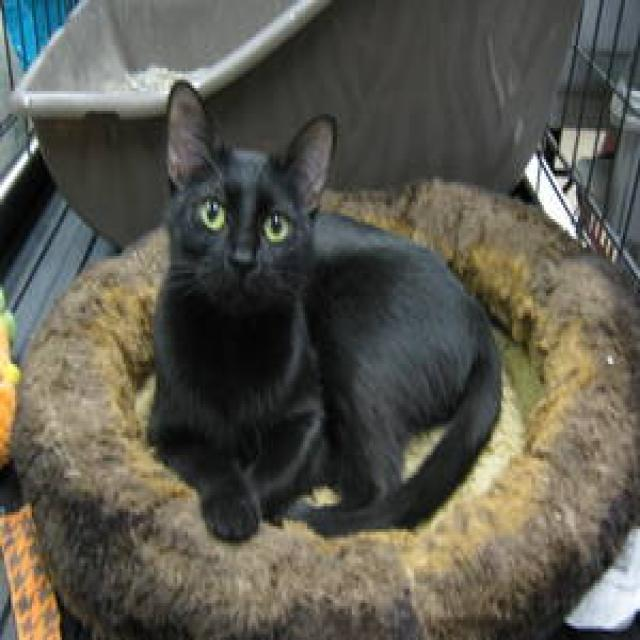Bombay: (160, 77, 333, 316)
